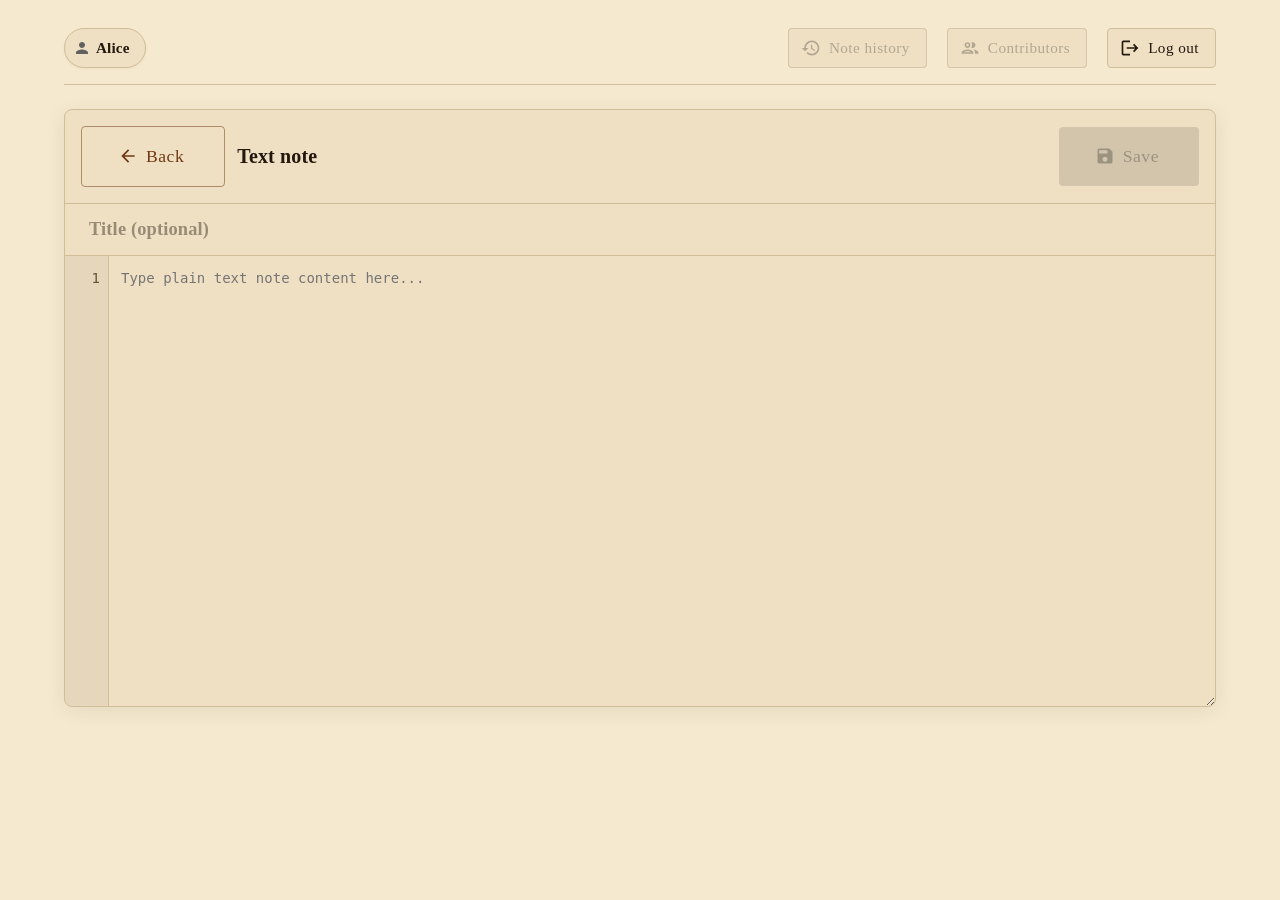
Test: NoteEditor Client Component › Triage cases & constraints › displays content fieldErrors with FormHelperText (F9)
The image size is (1280, 900).
In the field named "Note title": (640, 230) x1=89 y1=212 x2=1191 y2=247, type "New Title"
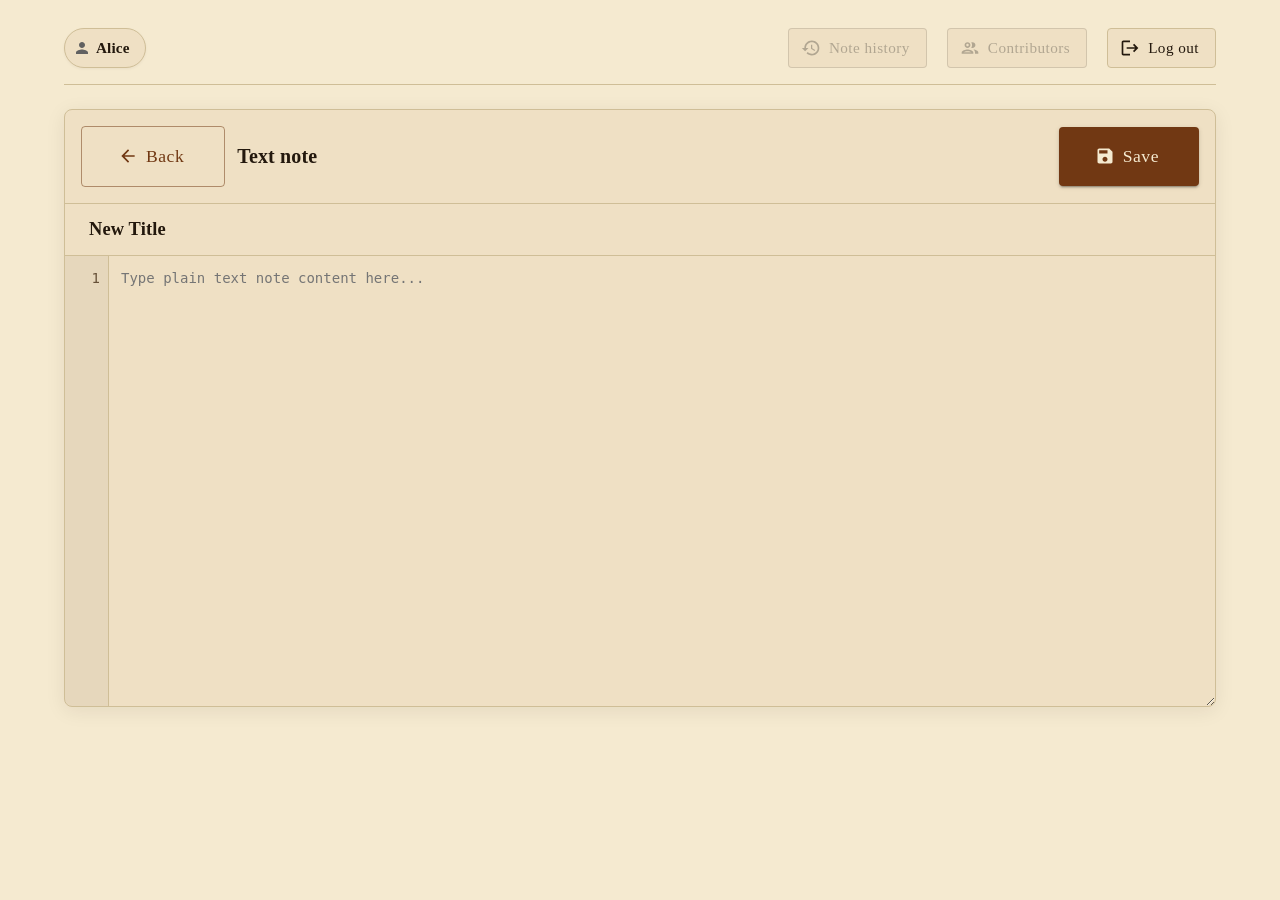
Click the button "Save": (1129, 156) x1=1059 y1=127 x2=1199 y2=186
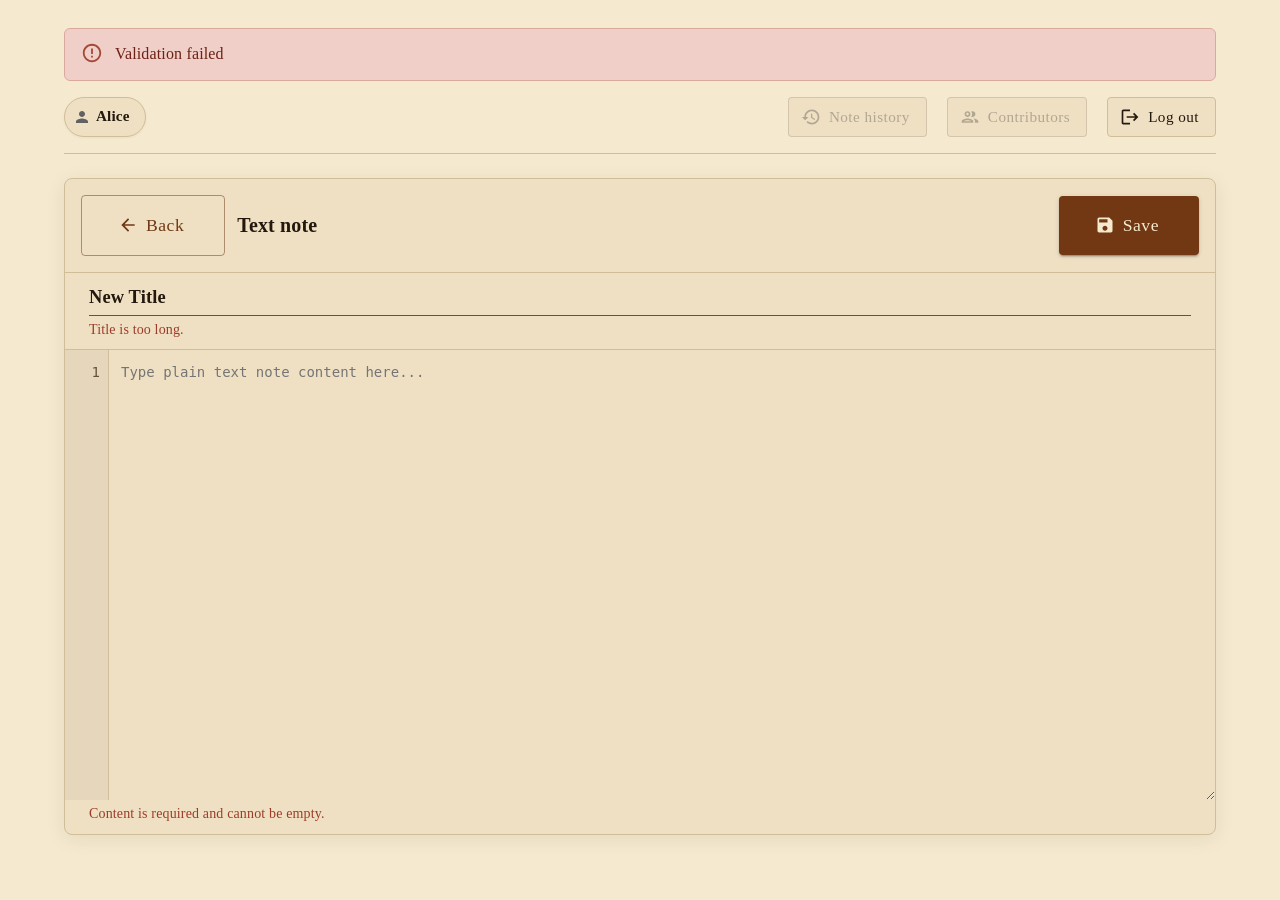
Check: the text "Content is required and cannot be empty." is shown, box x1=89 y1=806 x2=325 y2=822
Check: the text "Title is too long." is shown, box x1=89 y1=322 x2=184 y2=337
